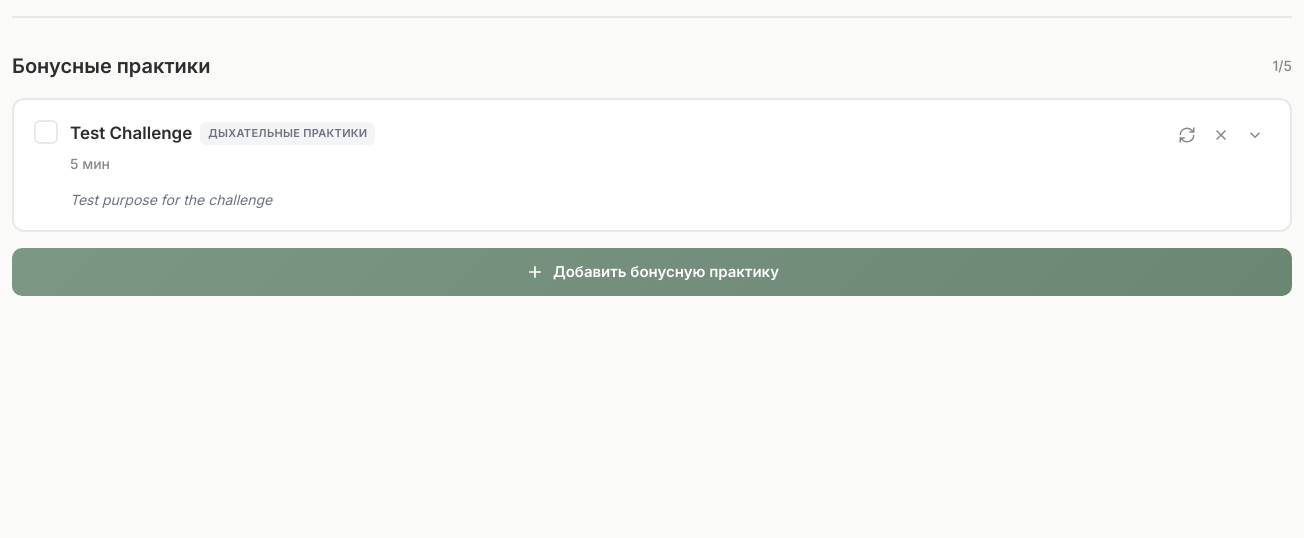
Test: BonusChallenges › expandable content › shows instructions when expanded
Click the button named "Развернуть" at (1255, 135), box x1=1240 y1=120 x2=1270 y2=150
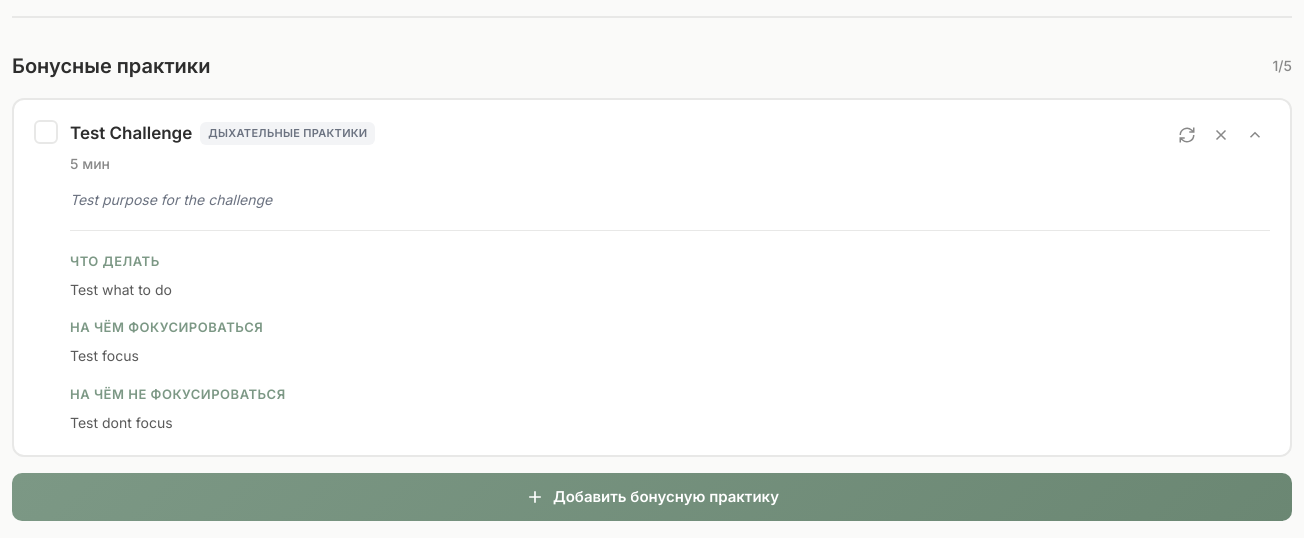
Now the heading "Что делать" is shown, box x1=70 y1=253 x2=160 y2=269
Now the text "Test what to do" is shown, box x1=70 y1=281 x2=172 y2=298
Now the heading "На чём фокусироваться" is shown, box x1=70 y1=319 x2=263 y2=335
